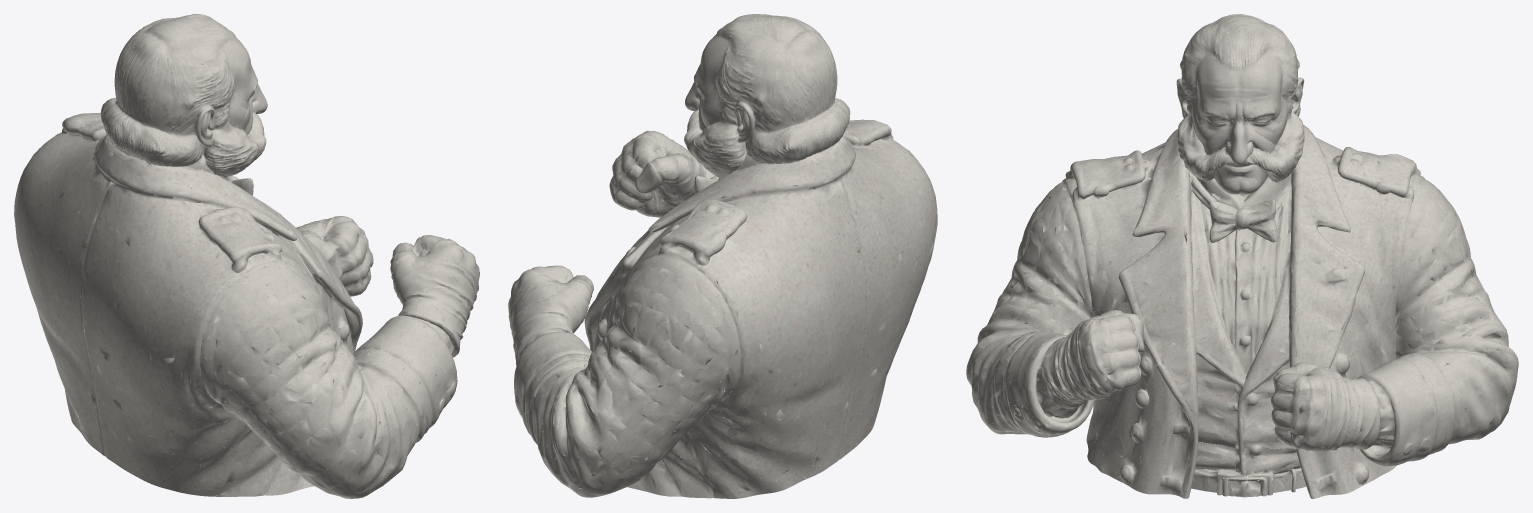
Rendered from 005_grau.glb.
3 renders of one model, left to right at view 1: azimuth 30°, elevation 25°; view 2: azimuth 150°, elevation 25°; view 3: azimuth 270°, elevation 25°, orthographic. The views are drawn at different scales.
Visible parts, largest first — view 1: tripo_part_0, tripo_part_3; view 2: tripo_part_0, tripo_part_3; view 3: tripo_part_0, tripo_part_3.
Part boxes in pixels (left/top/right/bottom): tripo_part_0: left=14, top=112, right=479, bottom=498; tripo_part_3: left=100, top=14, right=267, bottom=180; tripo_part_0: left=508, top=119, right=937, bottom=498; tripo_part_3: left=684, top=14, right=850, bottom=179; tripo_part_0: left=966, top=125, right=1518, bottom=498; tripo_part_3: left=1176, top=14, right=1304, bottom=195.
Size of the model in its own units: 0.3191 by 0.396 by 0.4889.
Materials: 1 (1 with a texture image).
